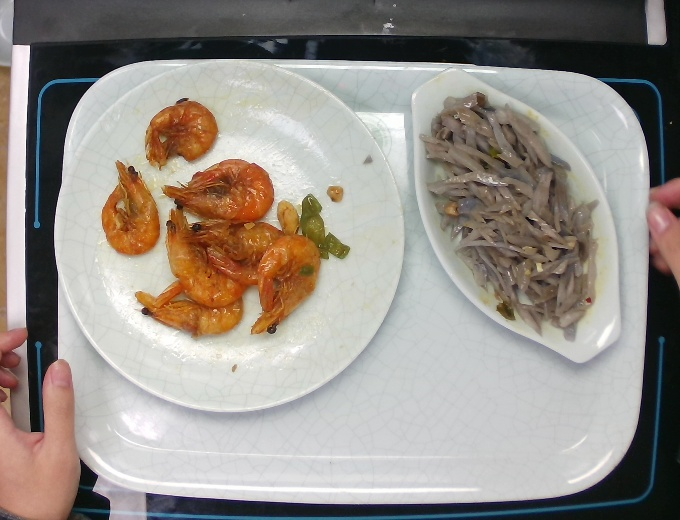JYsf-Da_Yuan_Pan: (49, 56, 411, 416)
JYsf-Yu_Pan: (406, 62, 631, 371)
